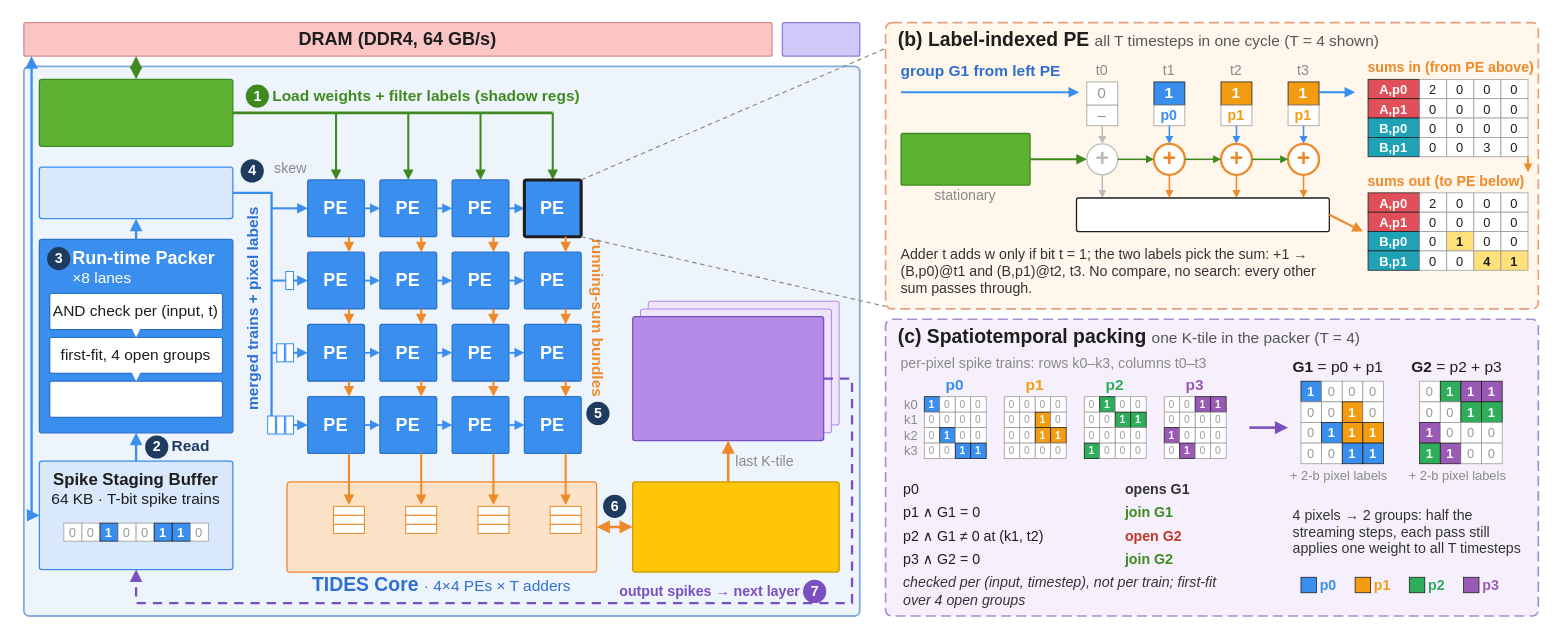
The diagram is 1562 pixels wide and 640 high, and some of its shapes have lost their labels. Here are the shapes that lost their labels. From the top down, the centre of each, then its label:
point (820, 38): CTRL
point (135, 112): Weight Memory 8-b weight | 2-b filter label
point (965, 158): w = 1 filter label B
point (135, 192): Group Buffer 4 KB
point (1202, 214): slot = {filter label, pixel label of bit t}
point (135, 398): merge ≤ G pixels + labels
point (727, 378): LIF Units ×16 4-stage pipeline V ← λV + I[t] fire if V ≥ θ, V −= θ
point (441, 526): Edge Unit · 4 FIFOs × 80 labels → (filter, pixel) · 4 RMW / col / cycle
point (735, 526): Output Buffer 192 KB Σ per (filter, pixel) × T
